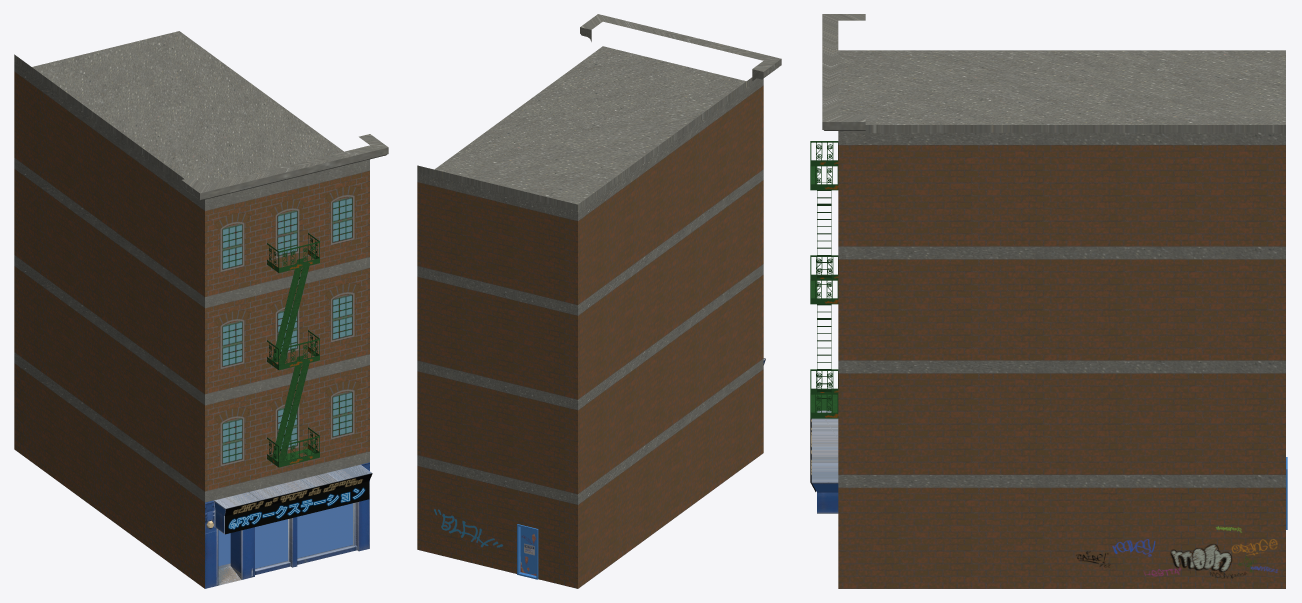
The model's file is hero_bldg_0001.glb.
3 views of the same model, side by side, from view 1: azimuth 30°, elevation 25°; view 2: azimuth 150°, elevation 25°; view 3: azimuth 270°, elevation 25° (orthographic). The views are drawn at different scales.
Parts seen in each view (by area): view 1: hero_bldg_0001; view 2: hero_bldg_0001; view 3: hero_bldg_0001.
Part boxes in pixels (box(x1,y1,x2,y2)): hero_bldg_0001: box(14, 31, 388, 588); hero_bldg_0001: box(417, 14, 781, 588); hero_bldg_0001: box(810, 14, 1287, 588).
Size of what is drawn, in the model's own units: 9.14 by 18.67 by 17.06.
Materials: 9 (9 with a texture image).
